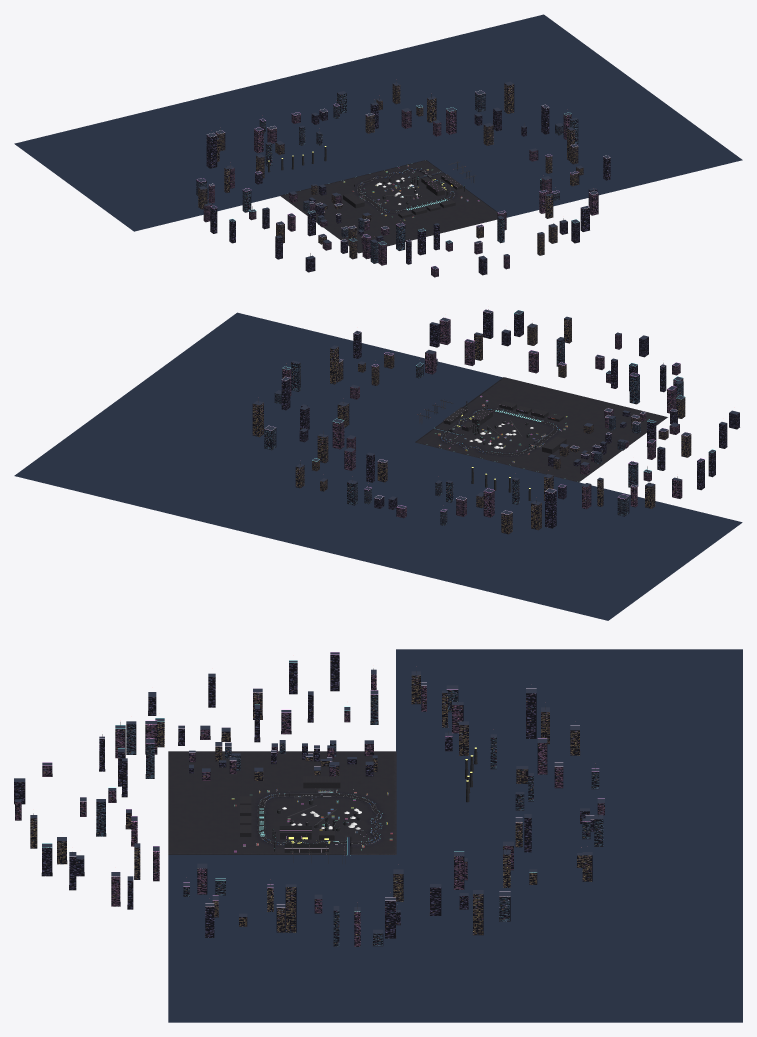
File: env_neon.glb
3 renders of one model, top to bottom at view 1: azimuth 30°, elevation 25°; view 2: azimuth 150°, elevation 25°; view 3: azimuth 270°, elevation 25°, orthographic. The views are drawn at different scales.
Visible parts, largest first — view 1: nf_water, nf_windows, terrain, nf_scenery, nf_foundry, nf_road; view 2: nf_water, nf_windows, terrain, nf_scenery, nf_foundry, nf_road; view 3: nf_water, nf_windows, terrain, nf_scenery, nf_foundry, nf_road.
Boxes of the visible parts, box(x1,y1,x2,y2) form: nf_water: box(14, 14, 742, 231); nf_windows: box(196, 83, 610, 277); terrain: box(280, 160, 497, 253); nf_scenery: box(197, 81, 610, 277); nf_foundry: box(412, 174, 464, 196); nf_road: box(357, 168, 454, 212); nf_water: box(14, 312, 742, 620); nf_windows: box(252, 311, 739, 534); terrain: box(415, 377, 667, 482); nf_scenery: box(253, 309, 739, 534); nf_foundry: box(443, 401, 492, 434); nf_road: box(442, 409, 557, 455); nf_water: box(168, 649, 742, 1022); nf_windows: box(14, 655, 604, 946); terrain: box(168, 751, 396, 854); nf_scenery: box(14, 652, 604, 946); nf_foundry: box(272, 818, 335, 852); nf_road: box(259, 794, 381, 844).
Bounding box in the file's own units: 3566 × 240 × 2942.
43 materials, 17 textured.
